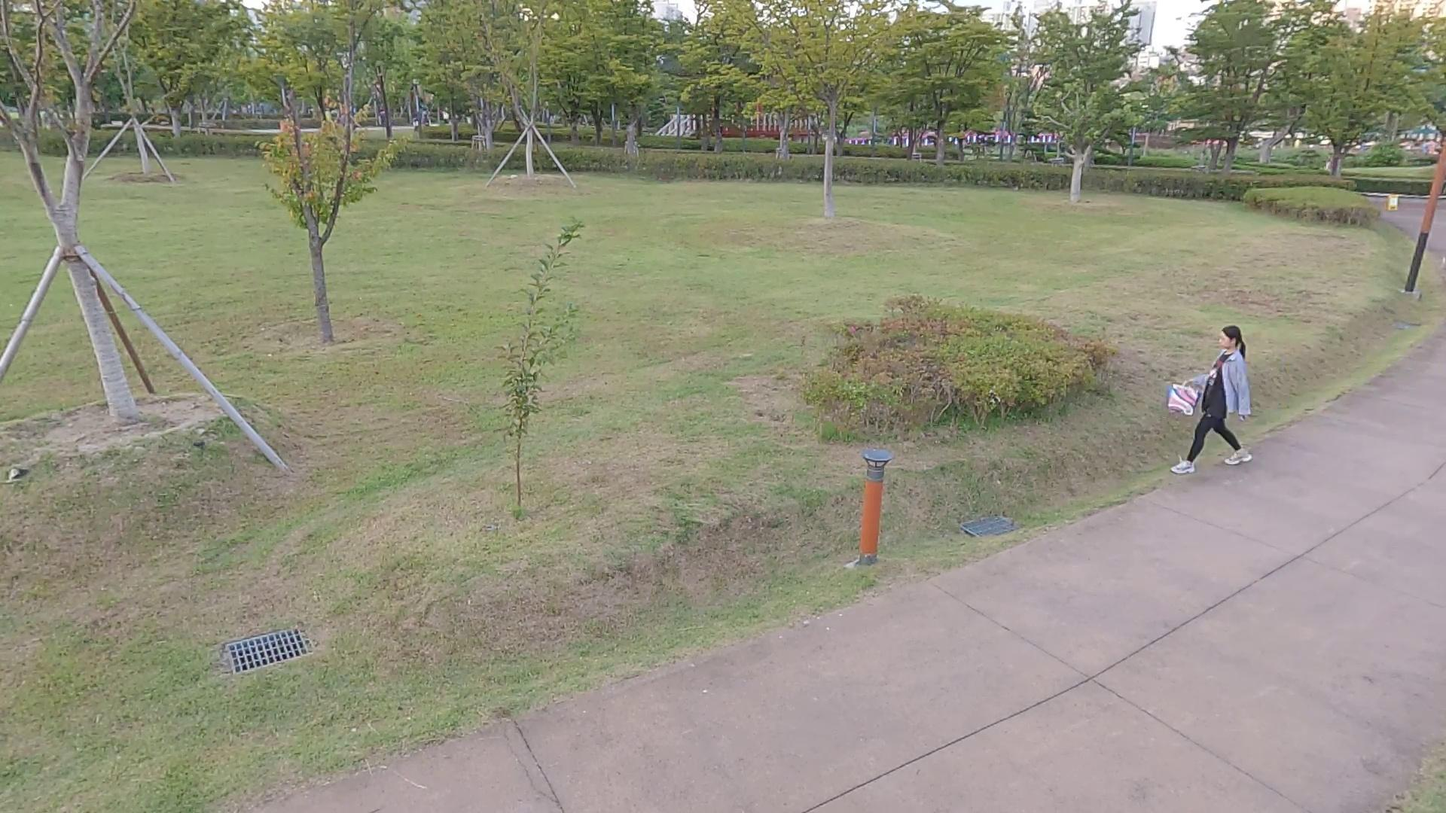person: (1173, 327, 1256, 476)
trash: (1168, 378, 1201, 418)
